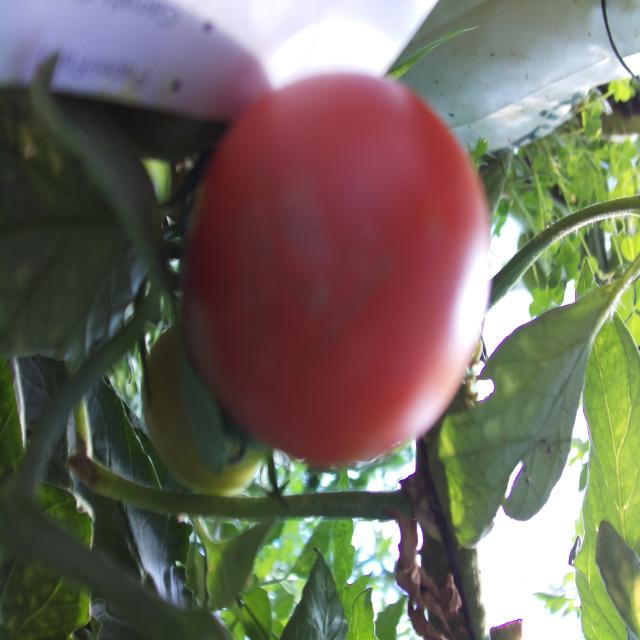kirmizi: (167, 54, 497, 473)
